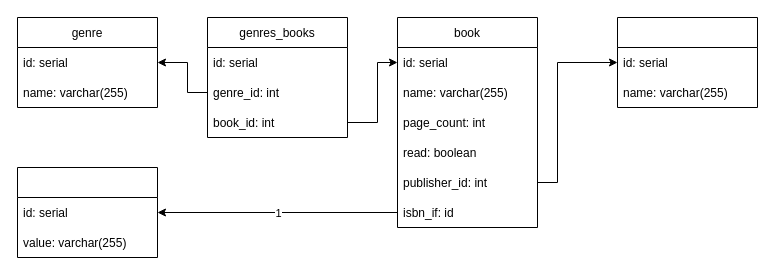
This 775x275 diagram has some shape labels left out. Here are the shapes that lost their labels. From the top down, the box of each, then its label:
(616, 16, 758, 108): publisher
(16, 166, 158, 258): isbn
